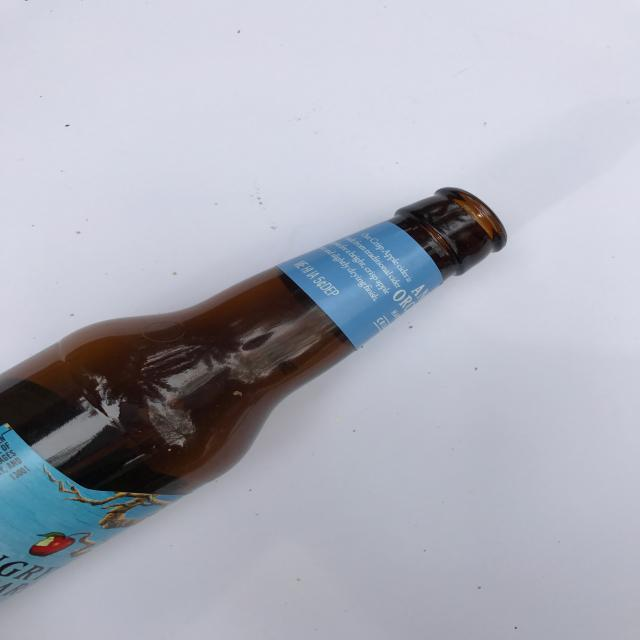glass: (1, 185, 508, 606)
